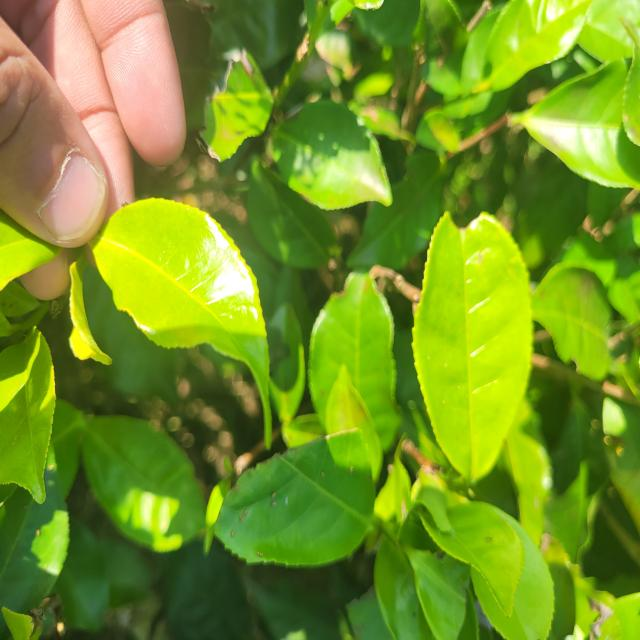Catagory A(1-2 days): (79, 177, 280, 470)
